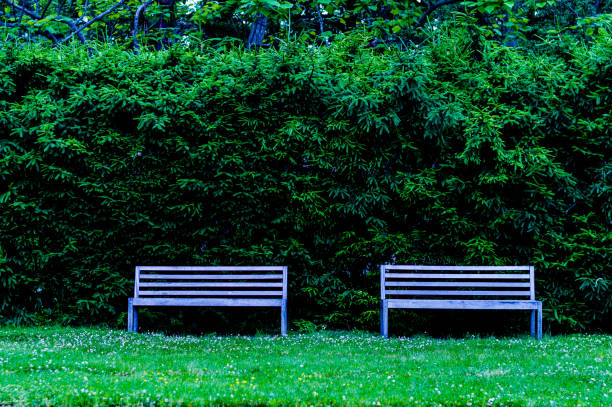bench: (367, 258, 547, 345), (123, 262, 292, 341)
